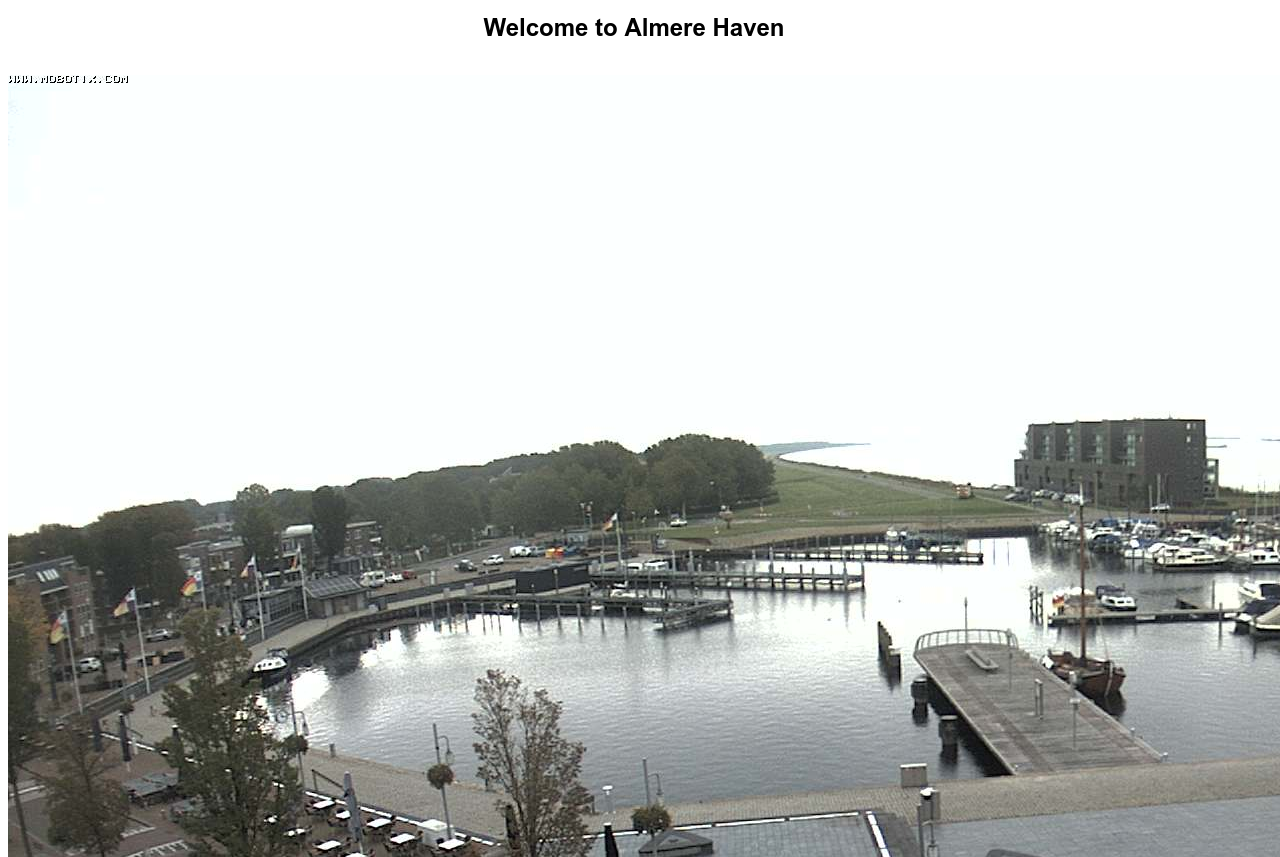maybe: (290, 544, 303, 566)
yes: (105, 589, 137, 617), (46, 608, 70, 645), (177, 569, 207, 596), (237, 553, 255, 576), (602, 511, 618, 531)
